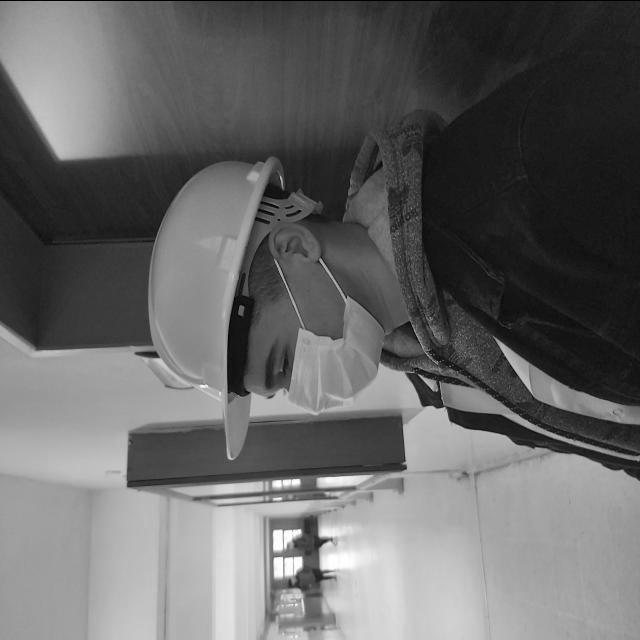construction helmet: (149, 153, 324, 456)
